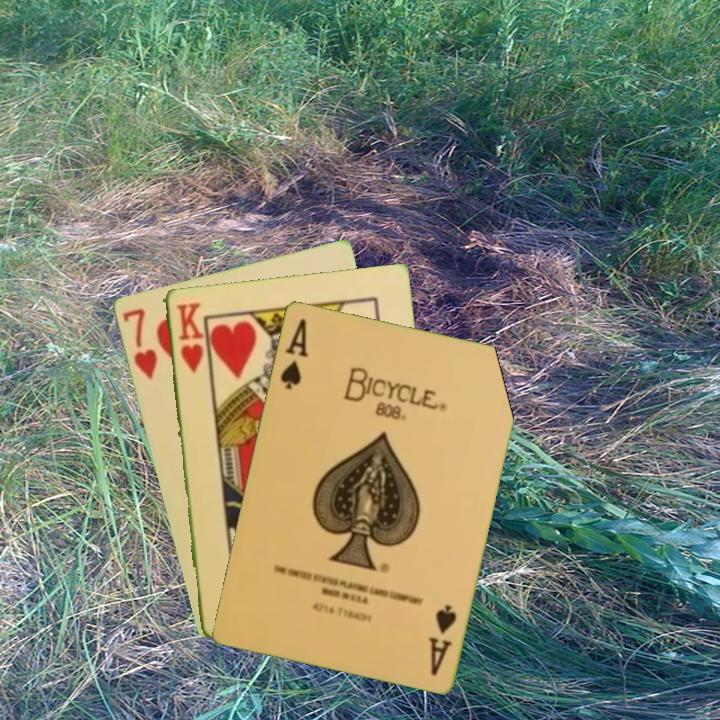7h: (118, 304, 160, 383)
As: (276, 314, 311, 392), (425, 600, 460, 678)
Kh: (172, 299, 206, 375)
